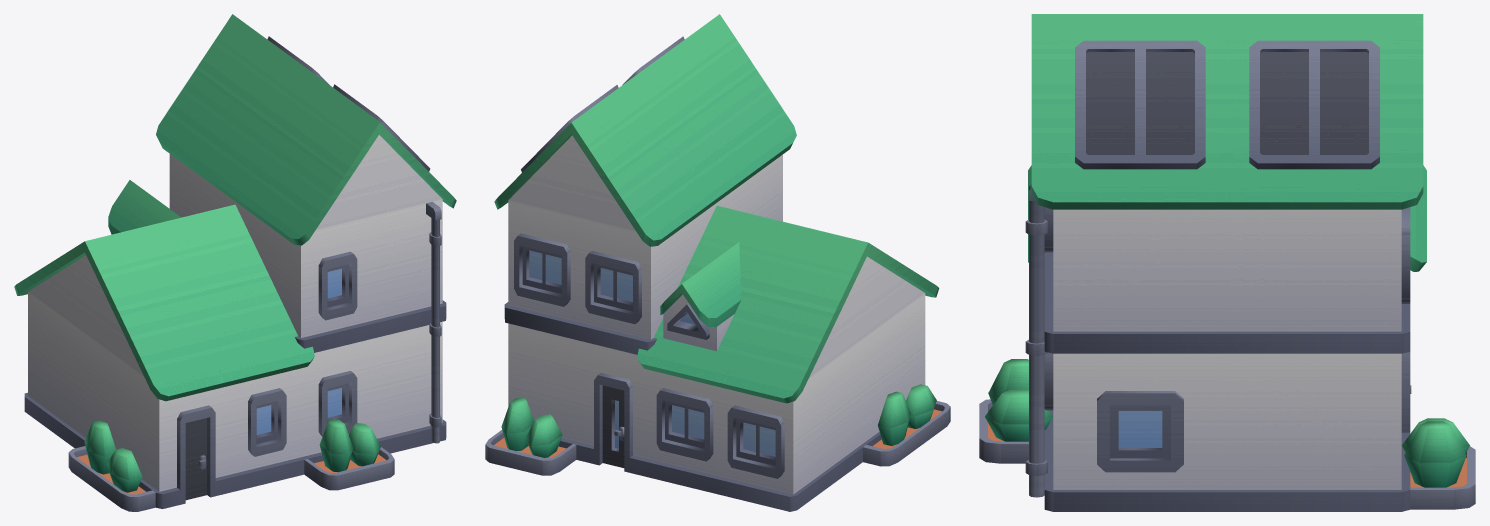
Rendered from house_b.glb.
The picture shows the model from 3 angles, left to right: view 1: azimuth 30°, elevation 25°; view 2: azimuth 150°, elevation 25°; view 3: azimuth 270°, elevation 25°; orthographic projection. The views are drawn at different scales.
Parts seen in each view (by area): view 1: building-type-b; view 2: building-type-b; view 3: building-type-b.
Part boxes in pixels (left/top/right/bottom): building-type-b: left=14, top=14, right=456, bottom=511; building-type-b: left=485, top=14, right=950, bottom=511; building-type-b: left=979, top=14, right=1475, bottom=511.
Size of the model in its own units: 15 by 15 by 15.
1 material, 1 textured.
